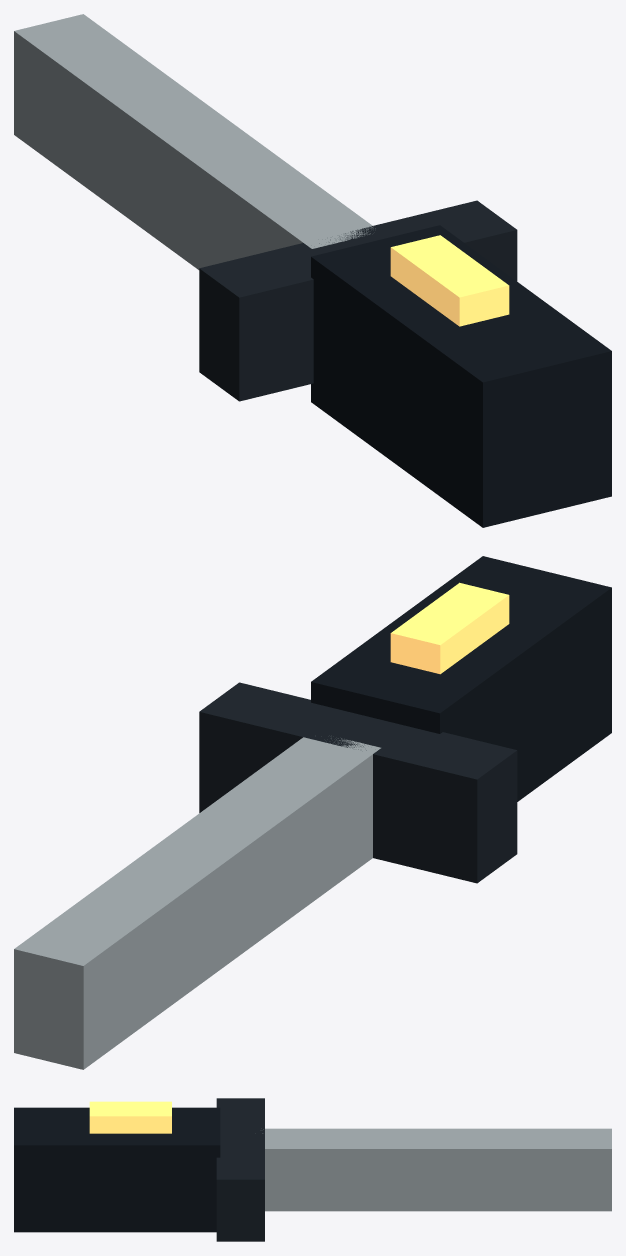
File: np_z05_couteau.glb
The picture shows the model from 3 angles, top to bottom: view 1: azimuth 30°, elevation 25°; view 2: azimuth 150°, elevation 25°; view 3: azimuth 270°, elevation 25°; orthographic projection. The views are drawn at different scales.
Visible parts, largest first — view 1: Manche, Lame, Garde, AccentFonctionnel; view 2: Lame, Manche, Garde, AccentFonctionnel; view 3: Lame, Manche, Garde, AccentFonctionnel.
Part boxes in pixels (left/top/right/bottom): Manche: left=311, top=225, right=611, bottom=527; Lame: left=14, top=14, right=375, bottom=269; Garde: left=199, top=200, right=517, bottom=401; AccentFonctionnel: left=390, top=235, right=509, bottom=326; Lame: left=14, top=737, right=380, bottom=1069; Manche: left=311, top=556, right=611, bottom=801; Garde: left=199, top=682, right=517, bottom=883; AccentFonctionnel: left=390, top=582, right=509, bottom=674; Lame: left=262, top=1128, right=611, bottom=1211; Manche: left=14, top=1107, right=220, bottom=1232; Garde: left=216, top=1098, right=264, bottom=1241; AccentFonctionnel: left=89, top=1101, right=171, bottom=1133.
Size of the model in its own units: 0.14 by 0.084 by 0.435.
